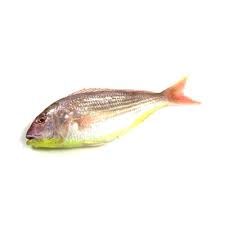Ikan Kerisi: (25, 85, 196, 154)
